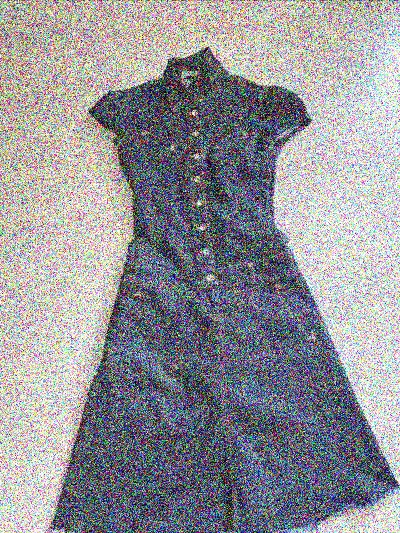Dress: (34, 51, 386, 531)
